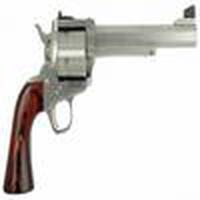gun: (6, 16, 200, 192)
